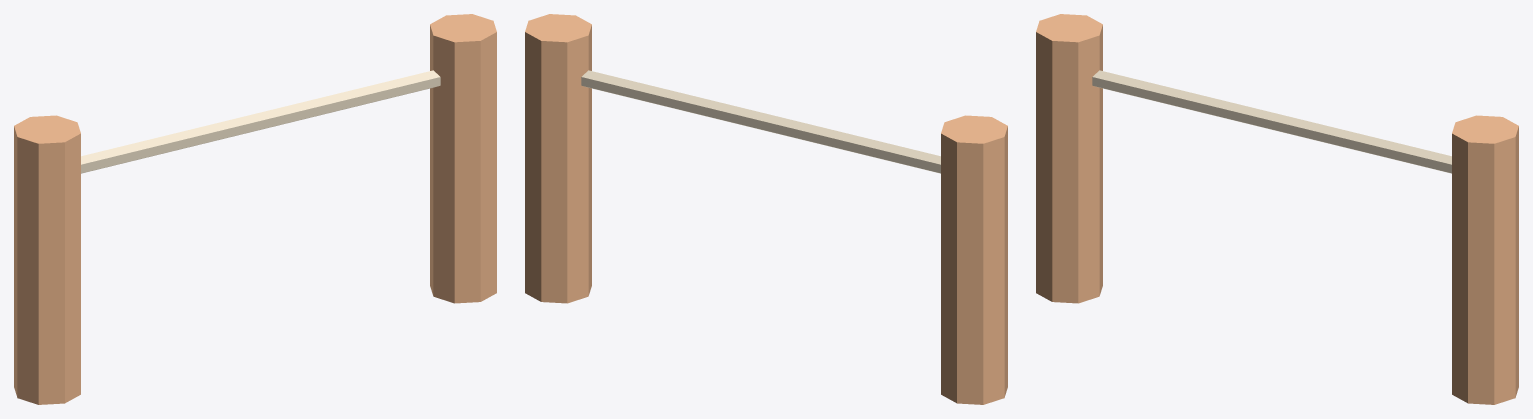
3 views of the same model, side by side, from view 1: azimuth 30°, elevation 25°; view 2: azimuth 150°, elevation 25°; view 3: azimuth 330°, elevation 25° (orthographic).
Visible parts, largest first — view 1: Boundary post, Boundary post.001, Rope; view 2: Boundary post, Boundary post.001, Rope; view 3: Boundary post.001, Boundary post, Rope.
Boxes of the visible parts, bbox=[...] form: Boundary post: bbox=[14, 115, 80, 404]; Boundary post.001: bbox=[430, 14, 496, 303]; Rope: bbox=[81, 70, 440, 173]; Boundary post: bbox=[941, 115, 1007, 404]; Boundary post.001: bbox=[525, 14, 591, 303]; Rope: bbox=[581, 70, 940, 173]; Boundary post.001: bbox=[1452, 115, 1518, 404]; Boundary post: bbox=[1036, 14, 1102, 303]; Rope: bbox=[1092, 70, 1451, 173].
Bounding box in the file's own units: 1.03 × 0.54 × 0.13.
1 material, 1 textured.
